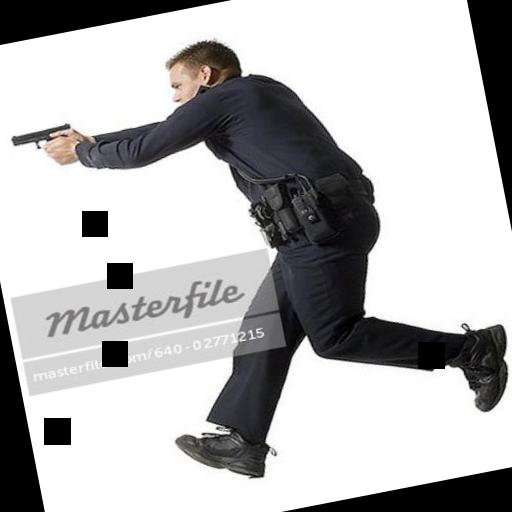Handgun: (6, 114, 92, 174)
